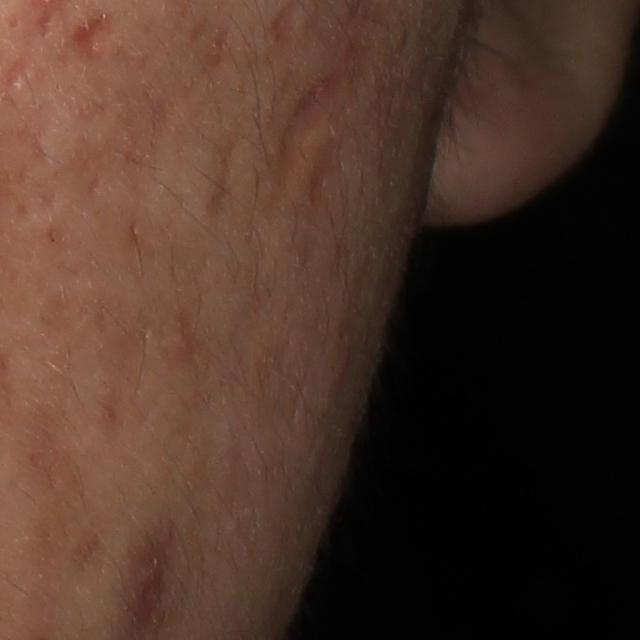atrophic_scar: (47, 64, 167, 215), (262, 50, 354, 223), (202, 117, 246, 219), (2, 50, 26, 89)
